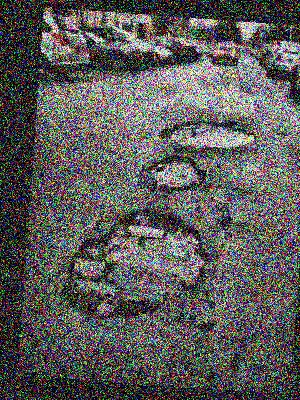pothole: (52, 199, 215, 331), (155, 115, 259, 153), (143, 155, 209, 195)
